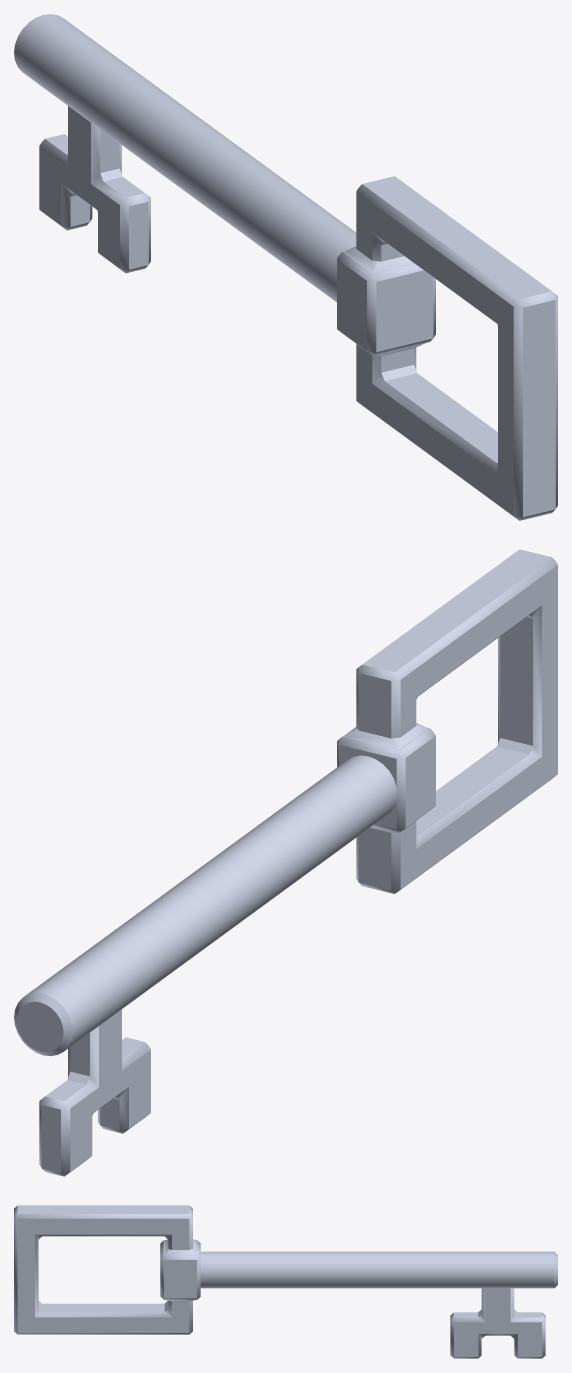
The model's file is key_01.glb.
3 views of the same model, one above another, from view 1: azimuth 30°, elevation 25°; view 2: azimuth 150°, elevation 25°; view 3: azimuth 270°, elevation 25° (orthographic). The views are drawn at different scales.
Visible parts, largest first — view 1: key_01; view 2: key_01; view 3: key_01.
Part boxes in pixels (x1,y1,x2,y2): key_01: [14, 14, 557, 520]; key_01: [14, 549, 557, 1176]; key_01: [14, 1205, 557, 1358].
Bounding box in the file's own units: 0.107 × 0.3995 × 1.34.
